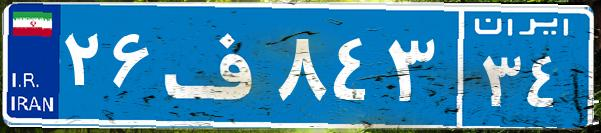2: (57, 26, 110, 107)
3: (385, 28, 445, 110), (475, 38, 525, 113)
4: (330, 28, 385, 110), (525, 38, 570, 115)
6: (110, 28, 158, 105)
8: (273, 28, 330, 110)
ف: (158, 15, 273, 115)
